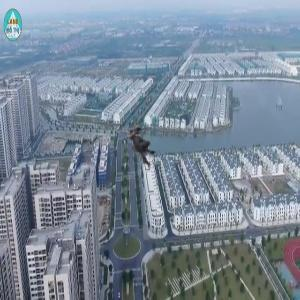drone: (109, 119, 168, 178)
